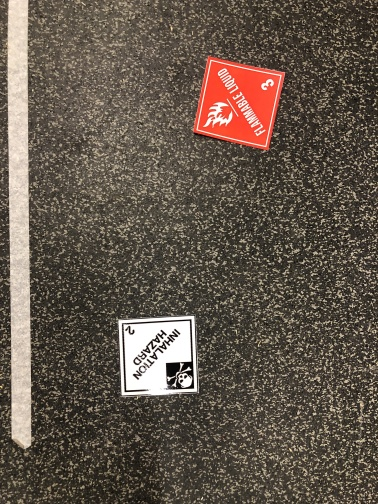FlammableLiquid: (193, 56, 285, 149)
InhalationHazard: (117, 315, 199, 396)
